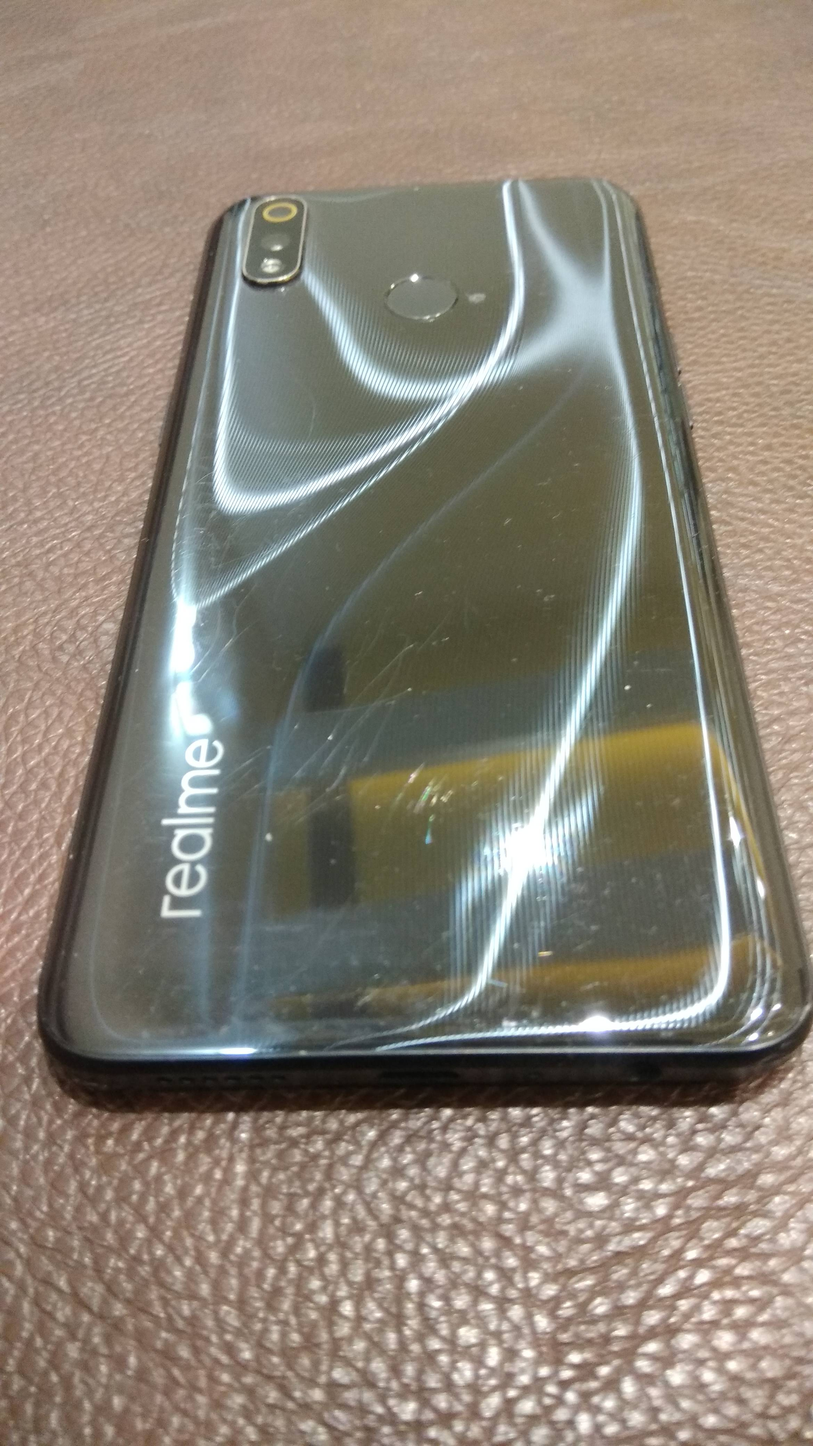Electronics: (30, 137, 811, 1140)
